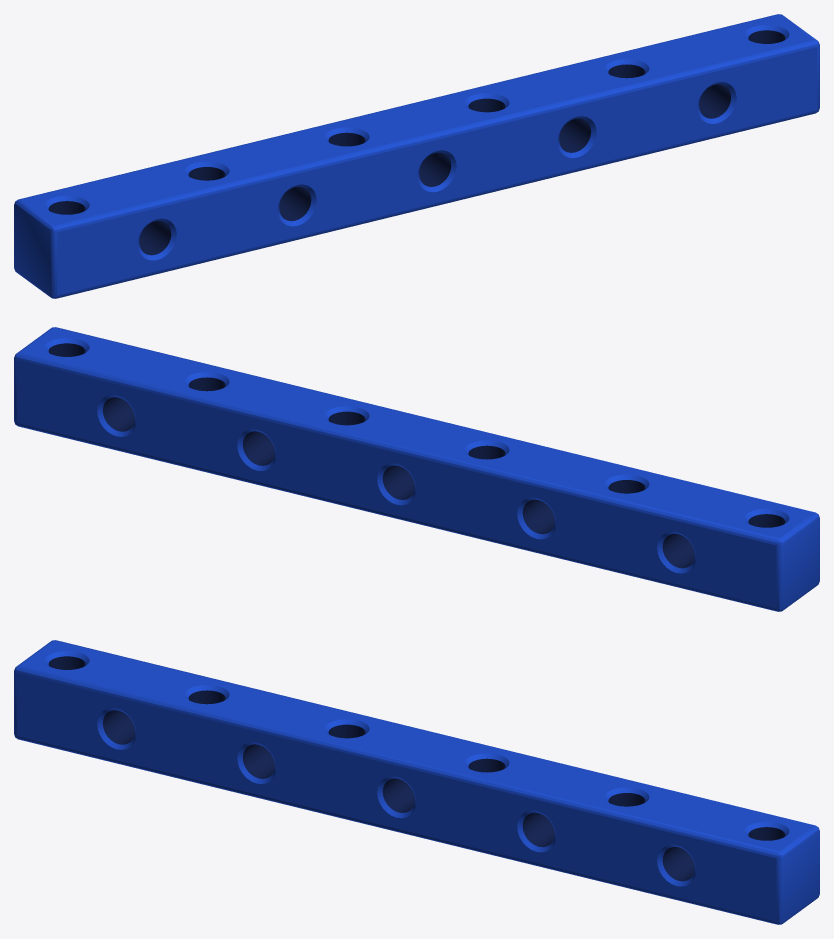
The model's file is viga-11.glb.
3 views of the same model, one above another, from view 1: azimuth 30°, elevation 25°; view 2: azimuth 150°, elevation 25°; view 3: azimuth 330°, elevation 25° (orthographic).
Parts seen in each view (by area): view 1: geometry_0, geometry_1; view 2: geometry_0, geometry_1; view 3: geometry_0, geometry_1.
Boxes of the visible parts, <box> form: geometry_0: <box>14,14,819,298</box>; geometry_1: <box>48,30,785,255</box>; geometry_0: <box>14,327,819,611</box>; geometry_1: <box>48,343,785,568</box>; geometry_0: <box>14,640,819,924</box>; geometry_1: <box>48,656,785,881</box>.
Bounding box in the file's own units: 0.11 × 0.01 × 0.01.
